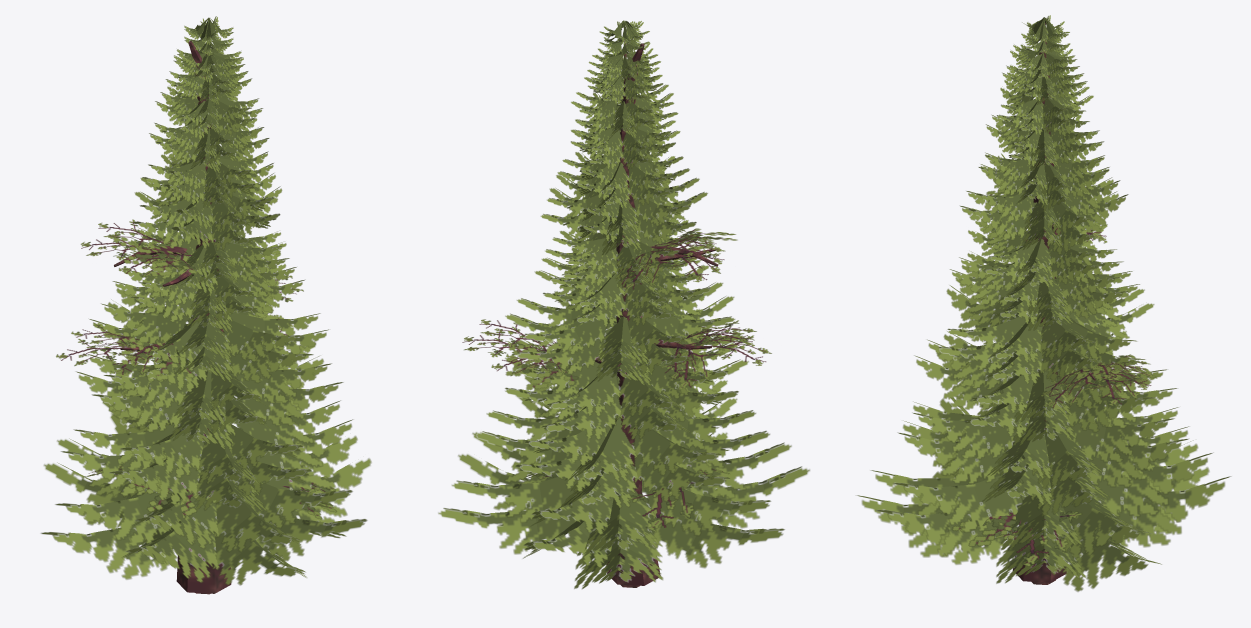
The model's file is spiky_tree.glb.
3 views of the same model, side by side, from view 1: azimuth 30°, elevation 25°; view 2: azimuth 150°, elevation 25°; view 3: azimuth 270°, elevation 25° (orthographic).
Parts seen in each view (by area): view 1: spiky_tree, tree_01, trunk_04; view 2: spiky_tree, tree_01, trunk_04; view 3: spiky_tree, tree_01, trunk_04, trunk_01.
Boxes of the visible parts, x1,y1,x2,y2 form: spiky_tree: (40,16,371,585); tree_01: (56,41,336,519); trunk_04: (176,548,231,593); spiky_tree: (438,20,809,589); tree_01: (462,43,771,530); trunk_04: (606,553,660,585); spiky_tree: (856,15,1231,591); tree_01: (952,41,1157,566); trunk_04: (1012,522,1066,582); trunk_01: (952,511,1081,565).
Size of the model in its own units: 26.38 by 43.36 by 26.91.
6 materials, 6 textured.
